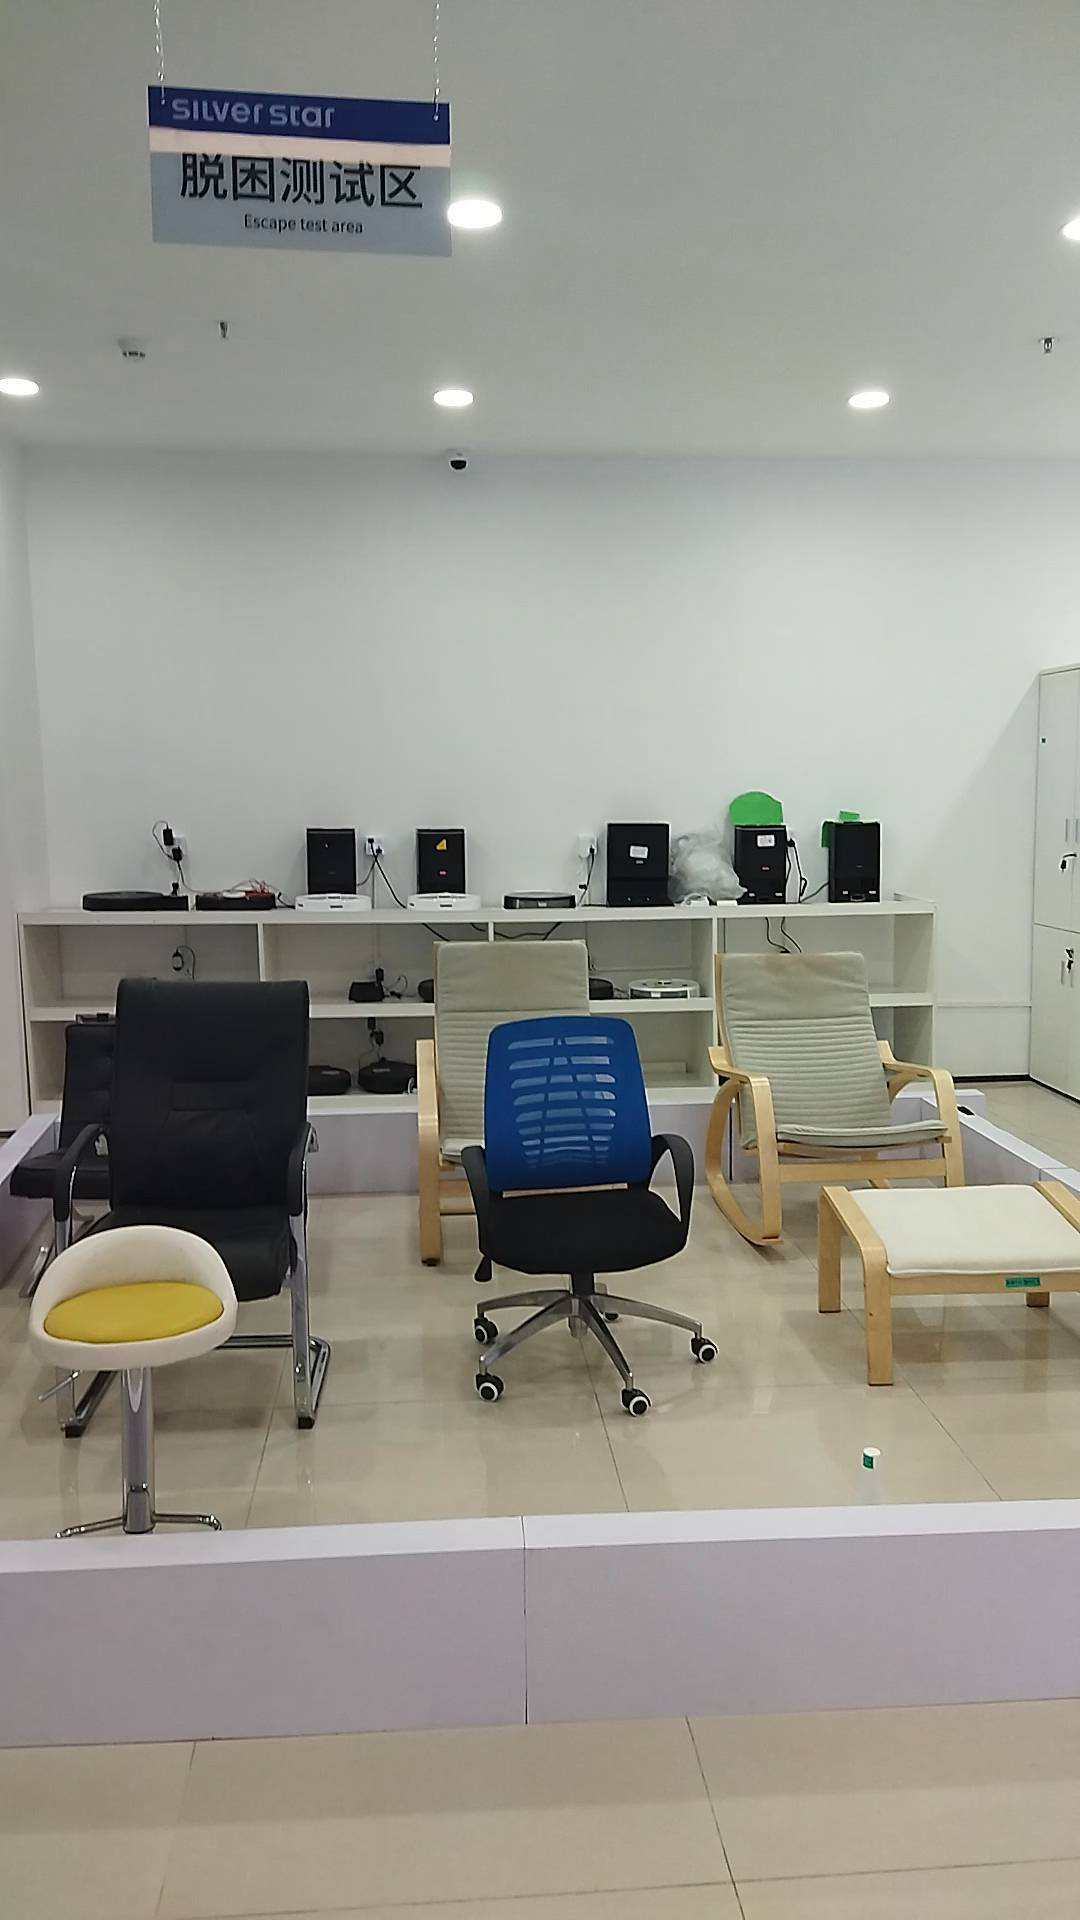dust collecting barrel: (607, 820, 676, 909), (736, 822, 793, 909), (827, 822, 882, 905), (414, 827, 465, 893), (305, 828, 357, 891)
recharge seat: (343, 977, 392, 1006)
